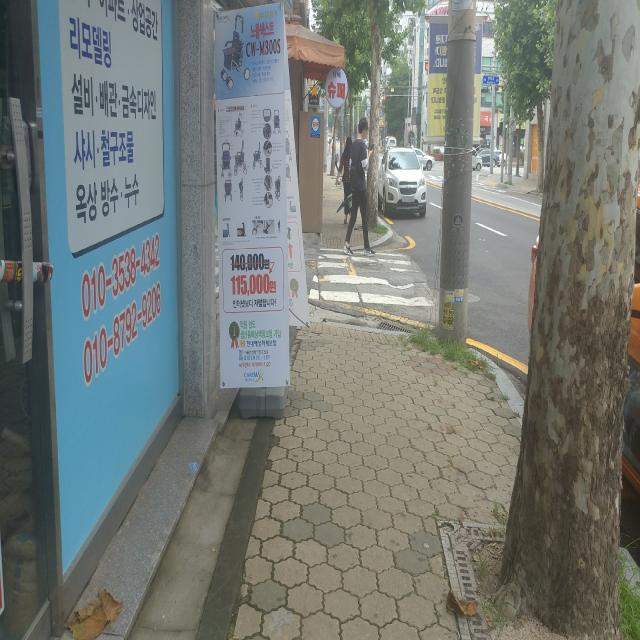횡단보도: (308, 247, 436, 307)
